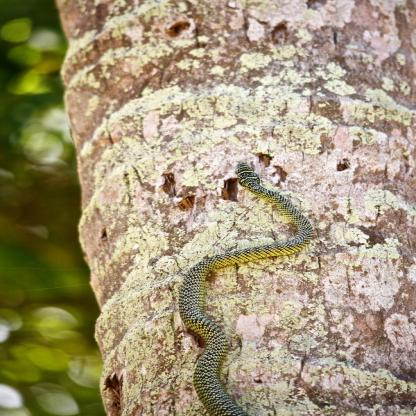Snake: (176, 158, 312, 416)
